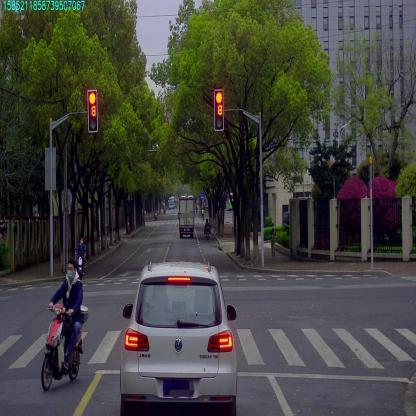traffic-light: (87, 90, 98, 132), (214, 89, 224, 130)
